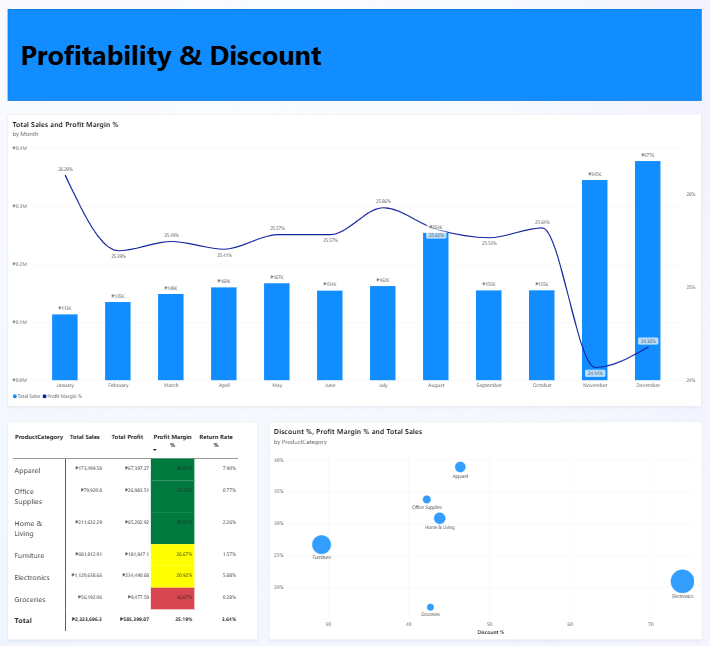

The dashboard page shown, as its layout file describes it:
{"tool":"powerbi","page":{"name":"Profitability & Discounts","canvas":[1920,1750],"ordinal":1},"visuals":[{"type":"scatterChart","fields":{"Category":["Sales_Data.ProductCategory"],"Size":["Sales_Data.Total Sales"],"X":["Sales_Data.Discount %"],"Y":["Sales_Data.Profit Margin %"]},"box":[732.5,1140,1155,582.5],"z":0},{"type":"lineClusteredColumnComboChart","fields":{"Category":["DateTable.Date.Variation.Date Hierarchy.Month"],"Y":["Sales_Data.Total Sales"],"Y2":["Sales_Data.Profit Margin %"]},"box":[36.7,320,1850,780],"z":1000},{"type":"shape","box":[35,40,1850,245],"z":2000},{"type":"textbox","box":[70,40,1815,245],"z":3000},{"type":"pivotTable","fields":{"Rows":["Sales_Data.ProductCategory"],"Values":["Sales_Data.Total Sales","Sales_Data.Total Profit","Sales_Data.Profit Margin %","Sales_Data.Return Rate %"]},"box":[35,1140,667.5,582.5],"z":4000}]}

Visuals, with their boxes in screenshot pixels (x1, y1, x2, y2), scaled from the page's 1920x1750 canvas onto the 710x646 screenshot:
scatterChart - Sales_Data.ProductCategory x Sales_Data.Total Sales: bbox(271, 421, 698, 636)
lineClusteredColumnComboChart - DateTable.Date.Variation.Date Hierarchy.Month x Sales_Data.Total Sales: bbox(14, 118, 698, 406)
shape: bbox(13, 15, 697, 105)
textbox: bbox(26, 15, 697, 105)
pivotTable - Sales_Data.ProductCategory x Sales_Data.Total Sales: bbox(13, 421, 260, 636)
